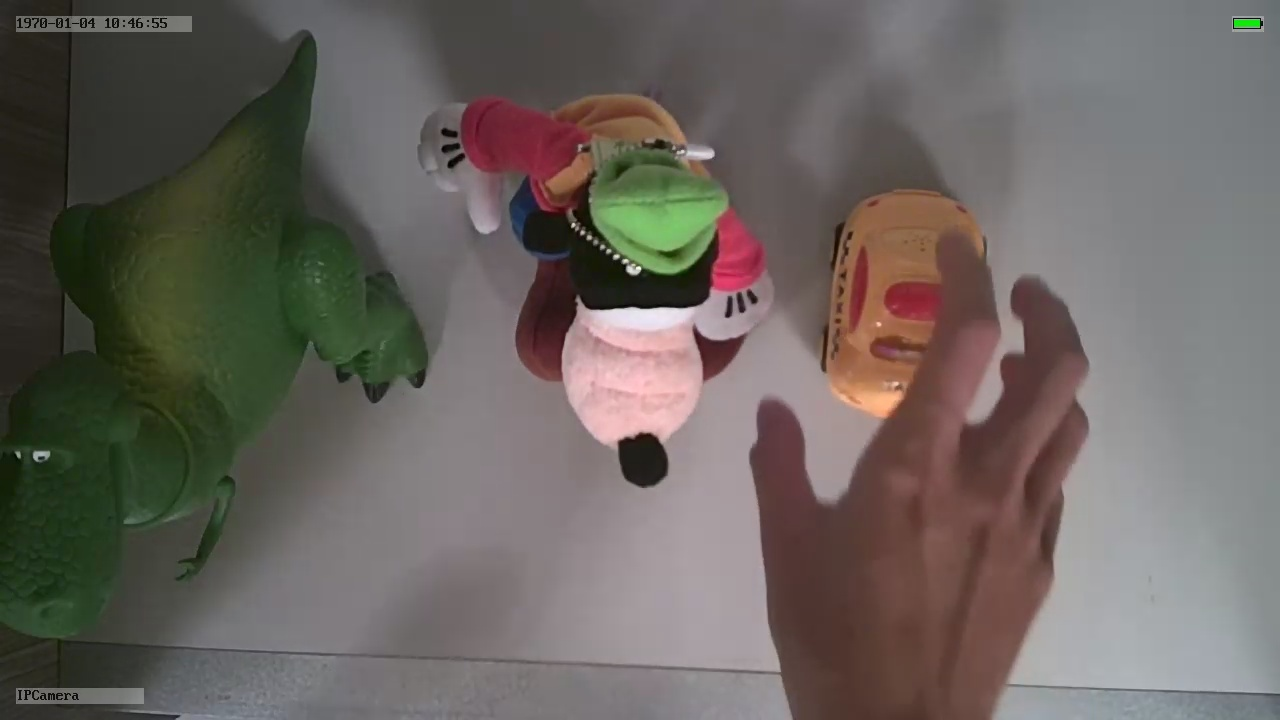goofy: (413, 89, 781, 487)
rex: (1, 139, 428, 641)
